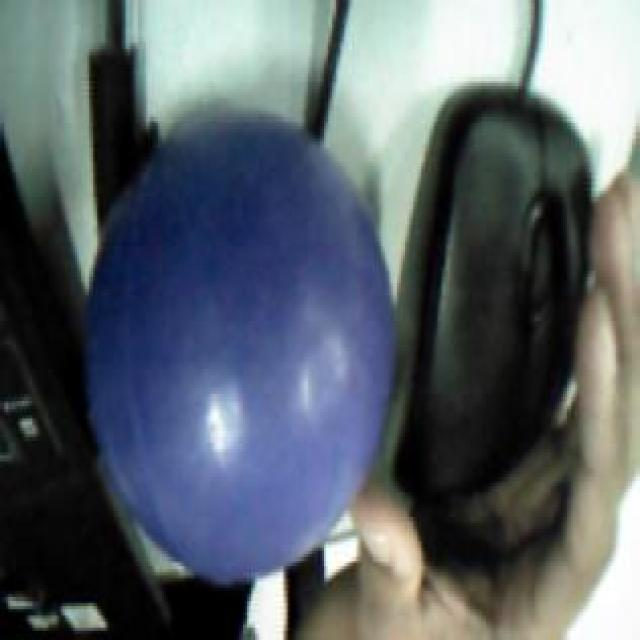BallPurple: (82, 111, 396, 588)
